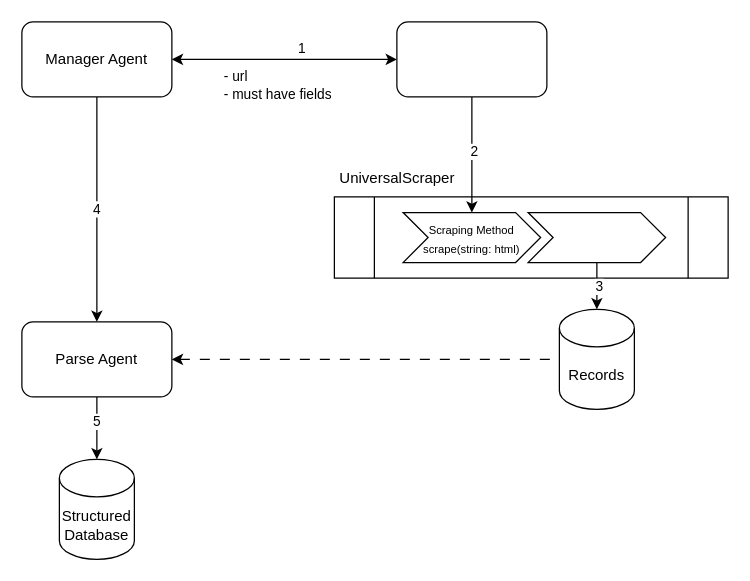
The diagram is 750 pixels wide and 581 high, and some of its shapes have lost their labels. Here are the shapes that lost their labels. From the top down, the box of each, then its label:
(396, 21, 547, 97): Retrieve Agent
(527, 211, 666, 262): csv_writer
